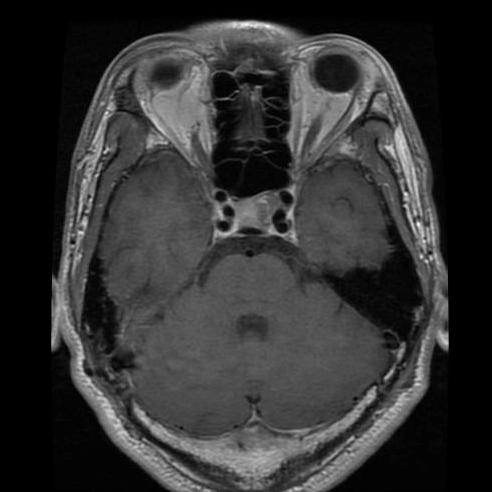Tumour-Pituitary: (212, 188, 301, 246)
